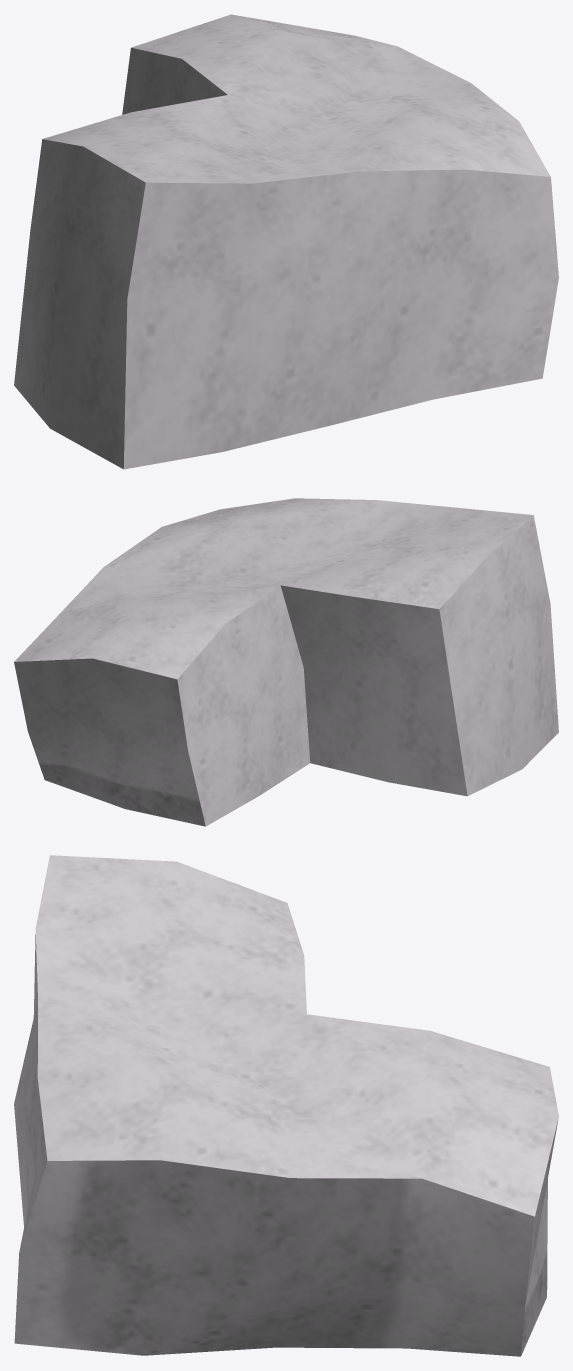
File: ob-bigstone01.glb
3 renders of one model, top to bottom at view 1: azimuth 30°, elevation 25°; view 2: azimuth 150°, elevation 25°; view 3: azimuth 270°, elevation 25°, orthographic. The views are drawn at different scales.
Parts seen in each view (by area): view 1: Sphere01; view 2: Sphere01; view 3: Sphere01.
Boxes of the visible parts, box(x1,y1,x2,y2) form: Sphere01: box(14, 14, 558, 469); Sphere01: box(14, 498, 558, 826); Sphere01: box(14, 855, 558, 1356).
Bounding box in the file's own units: 7.09 × 3.9 × 6.6.
Materials: 1 (1 with a texture image).
